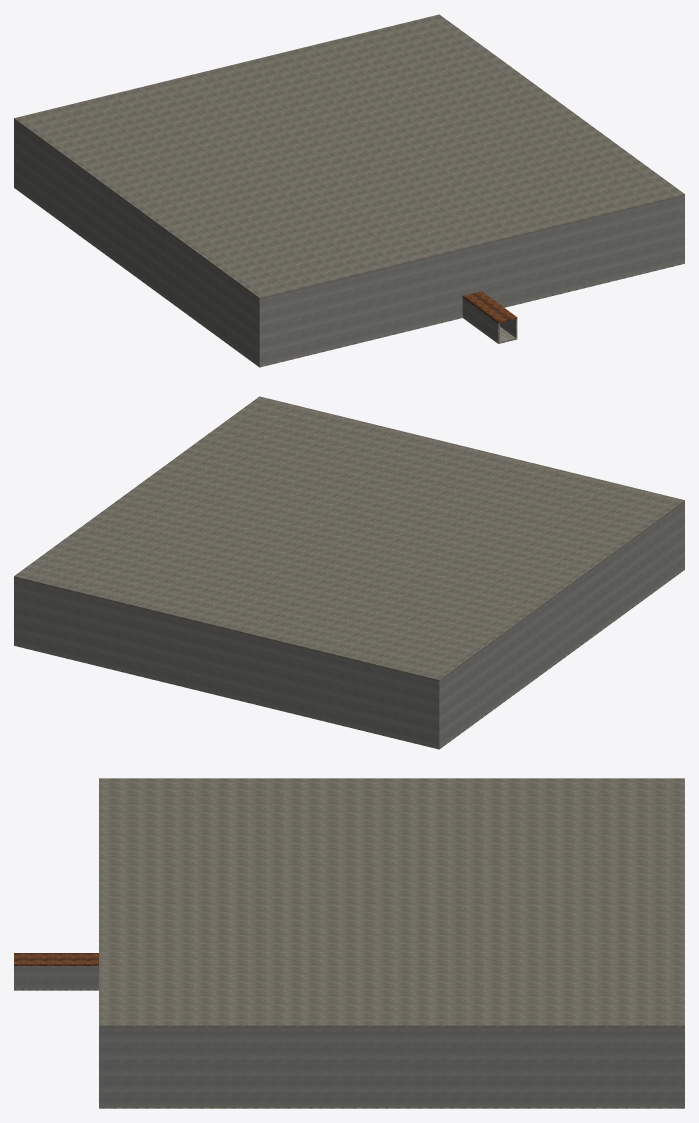
Rendered from zone_bumper.glb.
3 renders of one model, top to bottom at view 1: azimuth 30°, elevation 25°; view 2: azimuth 150°, elevation 25°; view 3: azimuth 270°, elevation 25°, orthographic. The views are drawn at different scales.
Visible parts, largest first — view 1: B_ceil_slab, B_shell_walls, B_corridor, B_shell_floor; view 2: B_ceil_slab, B_shell_walls, B_shell_floor; view 3: B_ceil_slab, B_shell_walls, B_corridor, B_shell_floor.
Part boxes in pixels (<box>): B_ceil_slab: <box>14,14,684,299</box>; B_shell_walls: <box>14,120,684,365</box>; B_corridor: <box>462,291,517,343</box>; B_shell_floor: <box>14,186,684,367</box>; B_ceil_slab: <box>14,396,684,681</box>; B_shell_walls: <box>14,502,684,747</box>; B_shell_floor: <box>14,568,684,749</box>; B_ceil_slab: <box>99,778,684,1027</box>; B_shell_walls: <box>99,1027,684,1106</box>; B_corridor: <box>14,953,98,990</box>; B_shell_floor: <box>99,1107,684,1108</box>.
Size of the model in its own units: 80.6 by 15.1 by 92.3.
22 materials, 11 textured.
